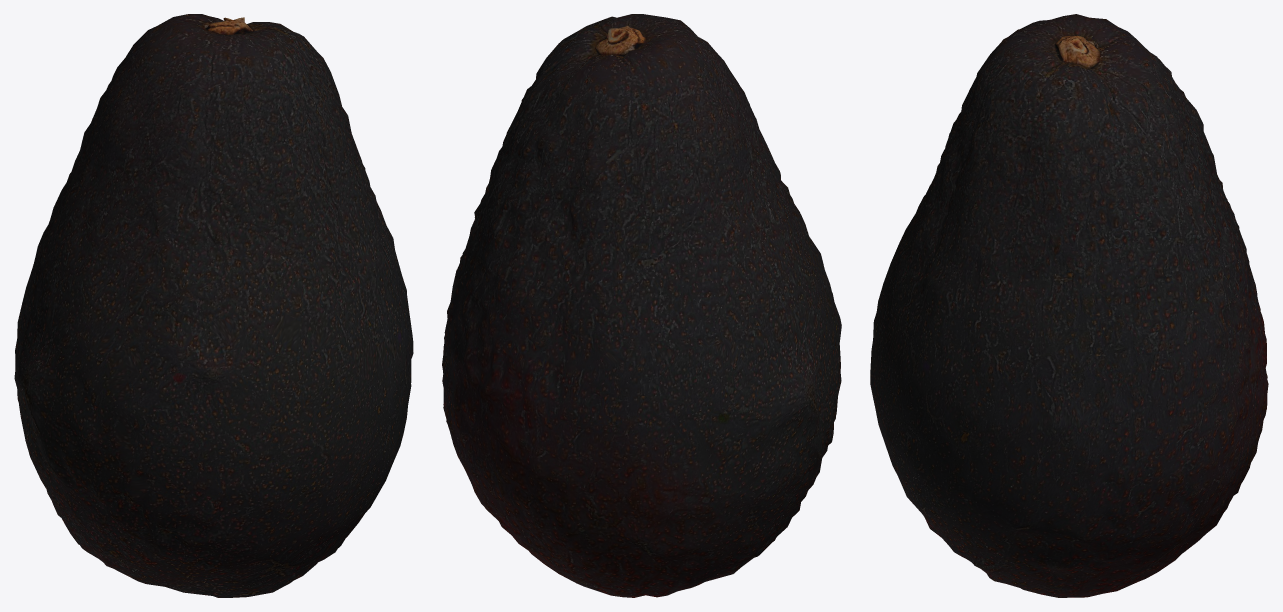
File: food_avocado_01_2k.fbx
3 views of the same model, side by side, from view 1: azimuth 30°, elevation 25°; view 2: azimuth 150°, elevation 25°; view 3: azimuth 270°, elevation 25° (orthographic). The views are drawn at different scales.
Parts seen in each view (by area): view 1: food_avocado_01; view 2: food_avocado_01; view 3: food_avocado_01.
Boxes of the visible parts, left/top/right/bottom form: food_avocado_01: left=14, top=14, right=413, bottom=597; food_avocado_01: left=442, top=14, right=841, bottom=597; food_avocado_01: left=870, top=14, right=1268, bottom=597.
Bounding box in the file's own units: 9.52 × 14.32 × 9.46.
1 material, 1 textured.
